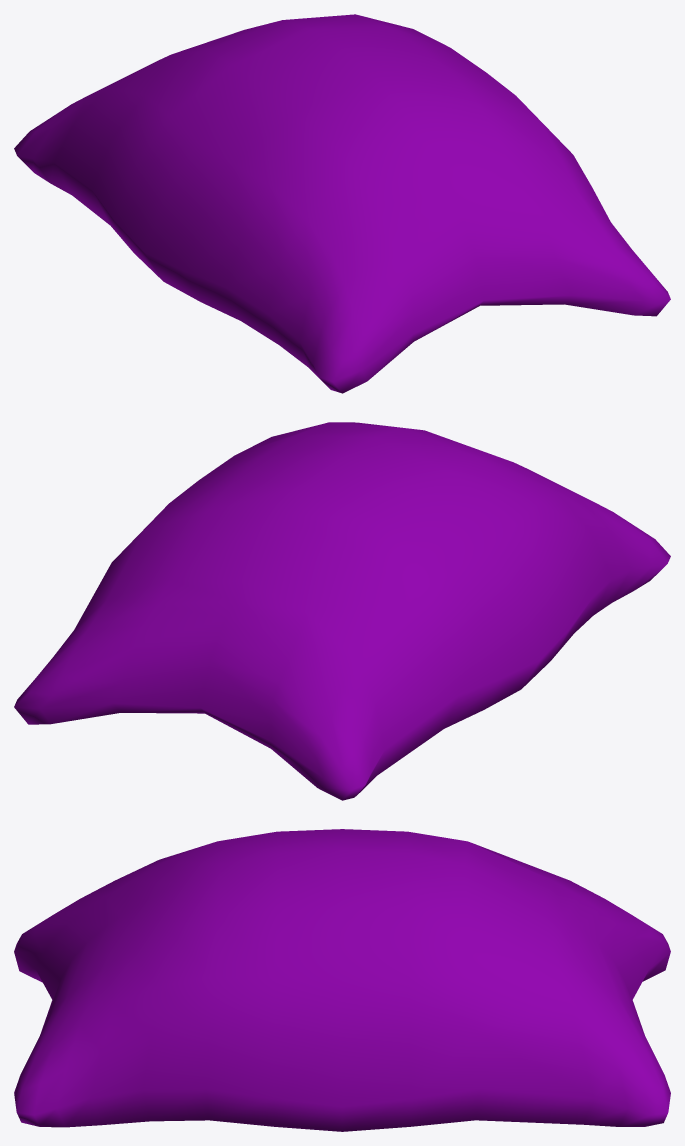
The model's file is SM_Bags_01.fbx.
3 renders of one model, top to bottom at view 1: azimuth 30°, elevation 25°; view 2: azimuth 150°, elevation 25°; view 3: azimuth 270°, elevation 25°, orthographic. The views are drawn at different scales.
Visible parts, largest first — view 1: Bags_01; view 2: Bags_01; view 3: Bags_01.
Boxes of the visible parts, bbox=[...] form: Bags_01: bbox=[14, 14, 670, 393]; Bags_01: bbox=[14, 422, 670, 800]; Bags_01: bbox=[14, 829, 670, 1131].
Size of the model in its own units: 103 by 48.71 by 145.
